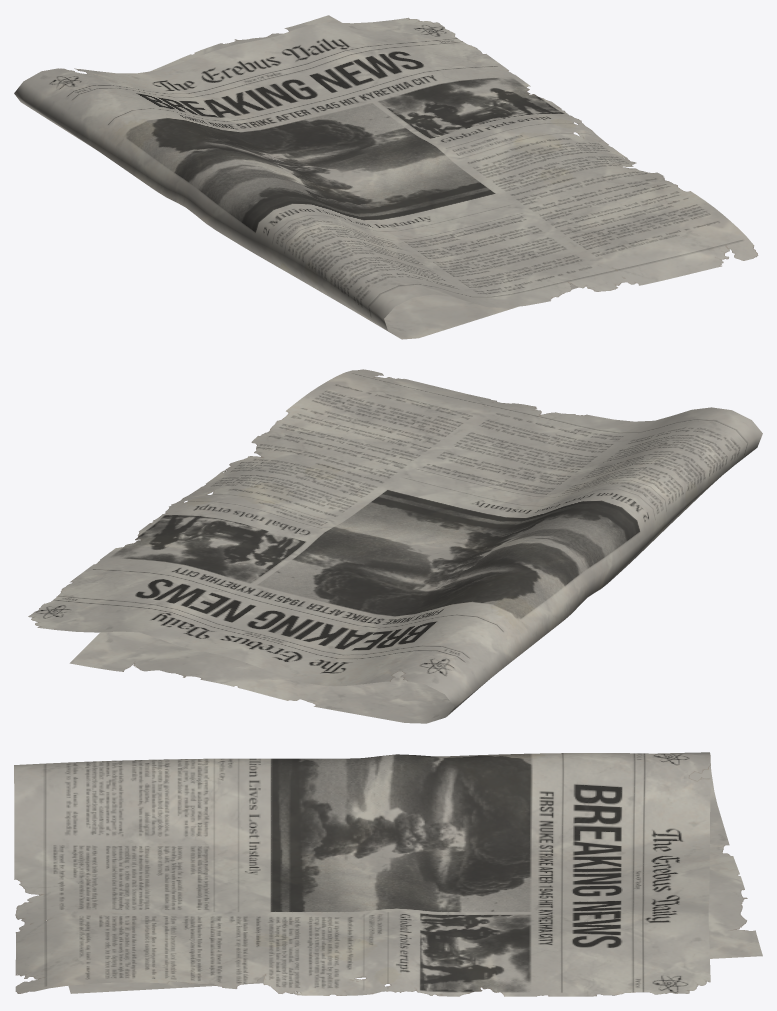
Rendered from old_newspaper.obj.
The picture shows the model from 3 angles, top to bottom: view 1: azimuth 30°, elevation 25°; view 2: azimuth 150°, elevation 25°; view 3: azimuth 270°, elevation 25°; orthographic projection. The views are drawn at different scales.
Parts seen in each view (by area): view 1: Object_0; view 2: Object_0; view 3: Object_0.
Part boxes in pixels (x1,y1,x2,y2): Object_0: (14,15,758,339); Object_0: (28,369,762,723); Object_0: (14,752,762,996).
Bounding box in the file's own units: 1307 × 152 × 1927.
1 material, 1 textured.
